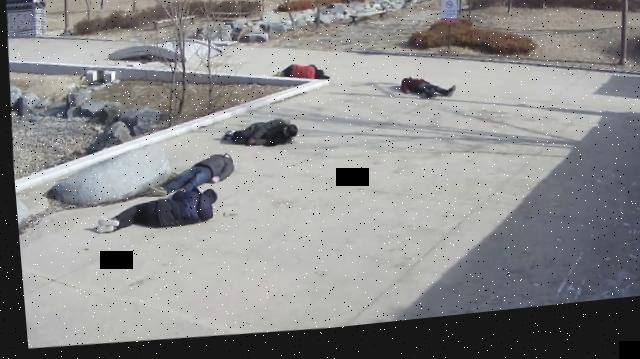fall: (83, 185, 218, 248), (145, 154, 235, 203), (217, 119, 297, 160), (394, 78, 459, 113), (273, 63, 329, 93)
